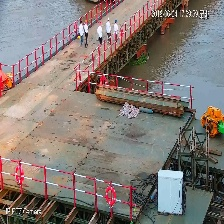no-vest: (106, 22, 112, 38), (98, 26, 104, 41), (79, 24, 84, 38), (113, 24, 118, 38)
person: (97, 19, 104, 49), (106, 17, 112, 46), (113, 18, 119, 47), (79, 19, 84, 49), (84, 20, 89, 48)
